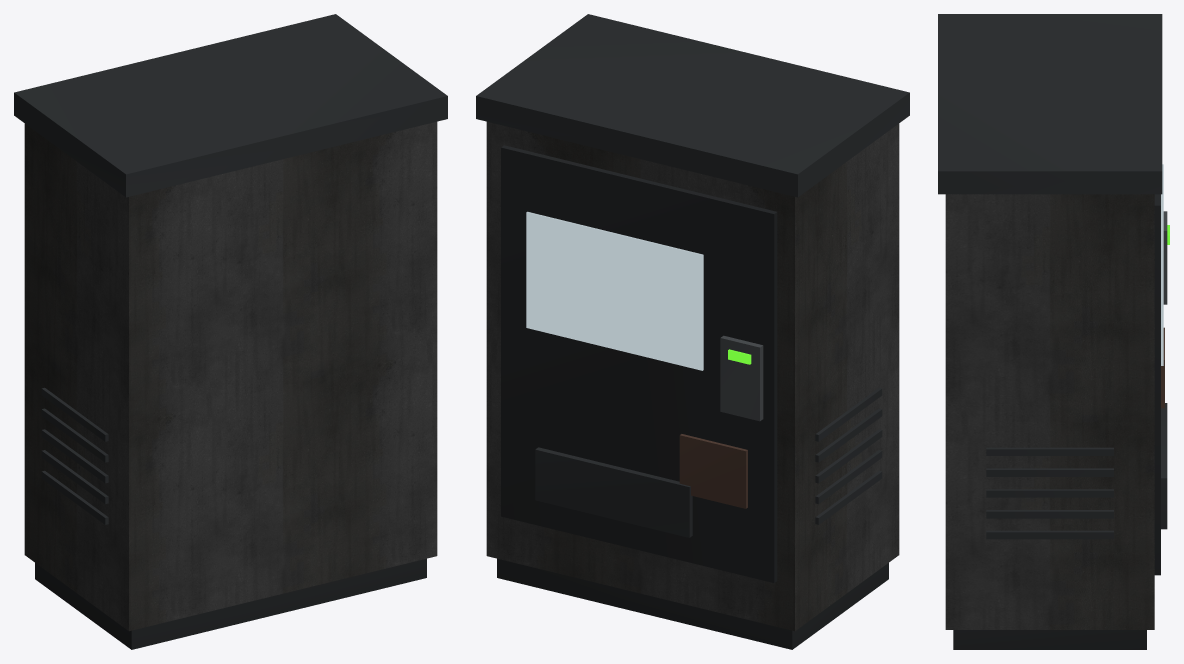
Rendered from shop_terminal.glb.
The picture shows the model from 3 angles, left to right: view 1: azimuth 30°, elevation 25°; view 2: azimuth 150°, elevation 25°; view 3: azimuth 270°, elevation 25°; orthographic projection.
Parts seen in each view (by area): view 1: shop_terminal__surface_metal, shop_terminal; view 2: shop_terminal, shop_terminal__surface_metal, shop_terminal__glow_screen; view 3: shop_terminal__surface_metal, shop_terminal, shop_terminal__glow_screen.
Part boxes in pixels (x1,y1,x2,y2): shop_terminal__surface_metal: [24, 121, 437, 631]; shop_terminal: [14, 14, 447, 649]; shop_terminal: [476, 14, 909, 649]; shop_terminal__surface_metal: [486, 121, 899, 631]; shop_terminal__glow_screen: [526, 211, 703, 370]; shop_terminal__surface_metal: [945, 194, 1154, 629]; shop_terminal: [938, 14, 1167, 649]; shop_terminal__glow_screen: [1161, 164, 1163, 365].
Size of the model in its own units: 1.46 by 2.1 by 0.91.
4 materials, 1 textured.
